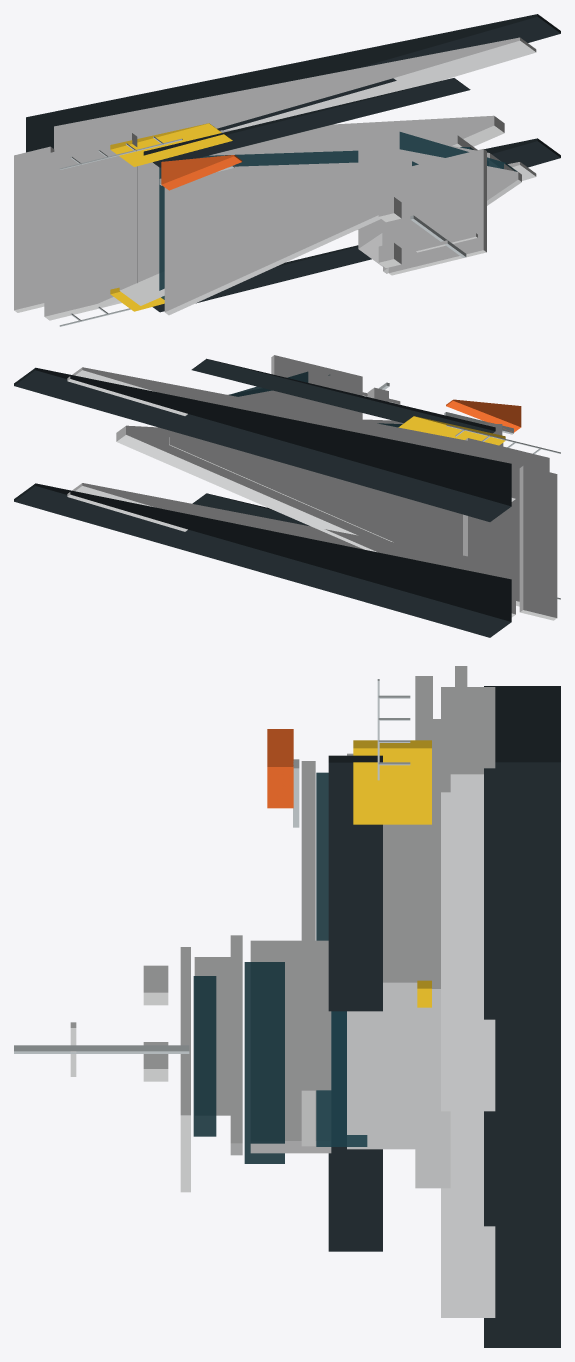
The model's file is boat.gltf.
3 renders of one model, top to bottom at view 1: azimuth 30°, elevation 25°; view 2: azimuth 150°, elevation 25°; view 3: azimuth 270°, elevation 25°, orthographic. The views are drawn at different scales.
Parts seen in each view (by area): view 1: saloon roof, upper hull, aft deck, lower hull (×2), hardtop, black side band (×2), saloon, stern platform, bridge deck, gold accent (×2), dark window band, forward superstructure (+5 smaller); view 2: lower hull (×2), bridge deck, upper hull (×2), stern platform, black side band (×2), aft deck, hardtop, rescue boat, gold accent, forward superstructure, bridge glazing; view 3: lower hull (×2), upper hull (×2), black side band (×2), saloon, bridge deck, forward superstructure, bridge glazing, gold accent, dark window band, upper bridge glass, saloon roof, bridge roof (+5 smaller).
Boxes of the visible parts, x1,y1,x2,y2 form: saloon roof: [164, 161, 382, 315]; upper hull: [54, 37, 536, 151]; aft deck: [44, 133, 137, 320]; lower hull (×2): [26, 14, 560, 167]; hardtop: [388, 149, 486, 275]; black side band (×2): [143, 78, 470, 312]; saloon: [119, 135, 477, 305]; stern platform: [14, 146, 54, 312]; bridge deck: [92, 115, 504, 307]; gold accent (×2): [110, 123, 232, 311]; dark window band: [159, 147, 473, 299]; forward superstructure: [358, 128, 513, 266]; lower hull (×2): [14, 367, 511, 637]; bridge deck: [116, 425, 500, 562]; upper hull (×2): [67, 367, 515, 617]; stern platform: [519, 466, 557, 620]; black side band (×2): [191, 358, 495, 526]; aft deck: [463, 438, 549, 606]; hardtop: [271, 355, 362, 419]; rescue boat: [446, 399, 521, 432]; gold accent: [398, 416, 505, 445]; forward superstructure: [239, 379, 331, 414]; bridge glazing: [229, 371, 308, 396]; lower hull (×2): [484, 686, 560, 1347]; upper hull (×2): [441, 687, 495, 1317]; black side band (×2): [328, 755, 382, 1251]; saloon: [347, 753, 417, 1149]; bridge deck: [415, 719, 450, 1188]; forward superstructure: [250, 940, 331, 1153]; bridge glazing: [244, 962, 284, 1163]; gold accent: [353, 740, 431, 824]; dark window band: [316, 772, 367, 1146]; upper bridge glass: [193, 976, 216, 1136]; saloon roof: [301, 761, 315, 1146]; bridge roof: [230, 935, 242, 1155].
Bounding box in the file's own units: 30.2 × 9.25 × 15.6.
